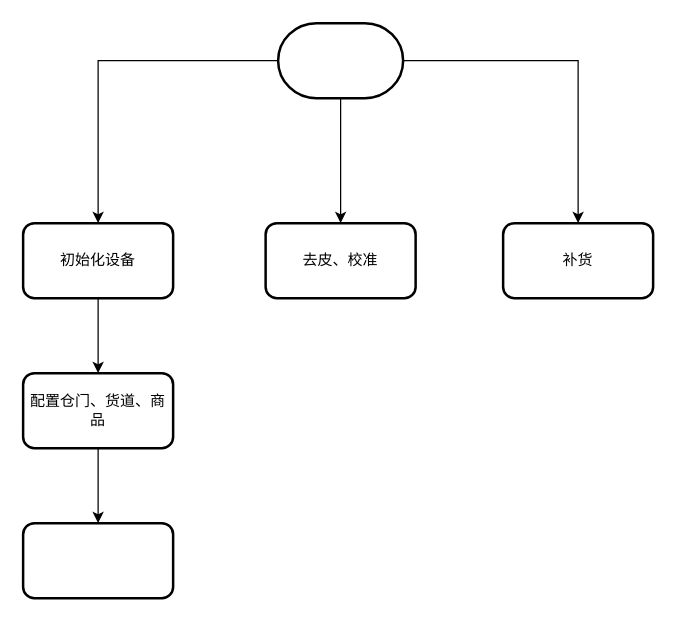
This 675x620 diagram has some shape labels left out. The shapes that lost their labels are listed below. From the top down, each one's box as (x1, y1, x2, y2) in pixels, then its label:
(276, 21, 404, 99): 管理服务
(21, 521, 174, 599): 通知货柜修改价签
